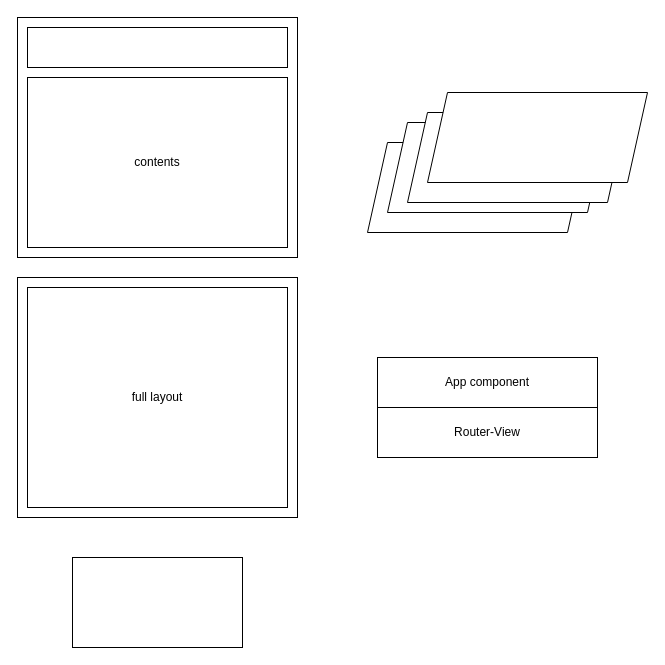
The diagram is 665 pixels wide and 665 high, and some of its shapes have lost their labels. Each missing label, with the box of its shape:
header: (26, 26, 288, 68)
modal: (72, 556, 242, 648)
